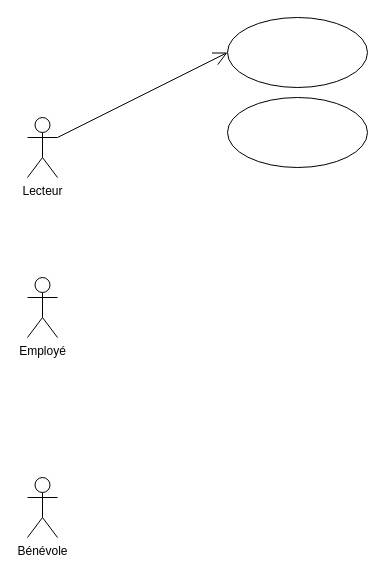
The diagram is 385 pixels wide and 576 high, and some of its shapes have lost their labels. Each missing label, with the centre of its shape:
"Consulter le catalogue" belongs at point 297,52.
"Emprunter" belongs at point 297,132.
